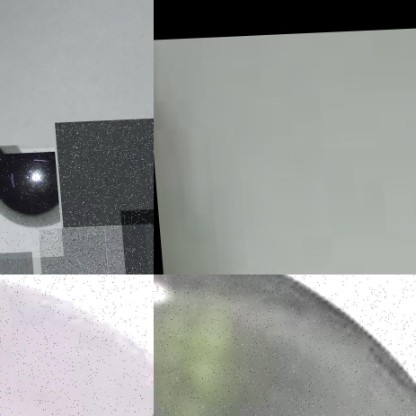ironball: (153, 274, 415, 415), (0, 274, 153, 415), (52, 120, 153, 229), (0, 149, 58, 261), (33, 227, 143, 274), (116, 210, 153, 274)
